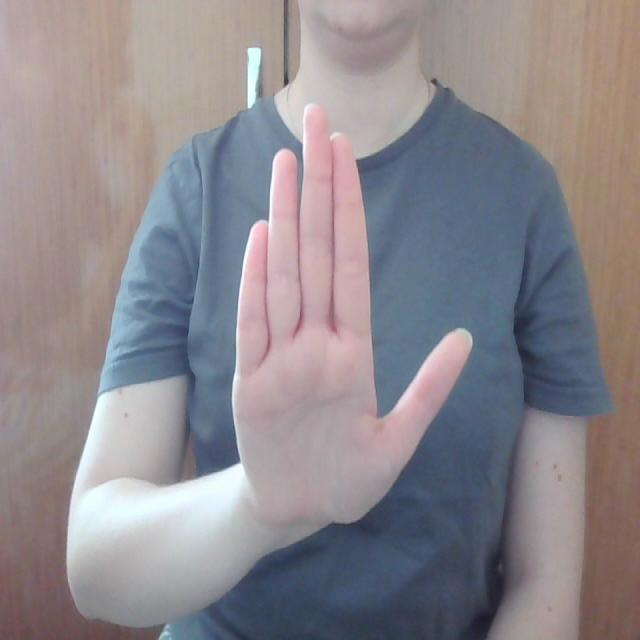Dur: (200, 104, 487, 527)
